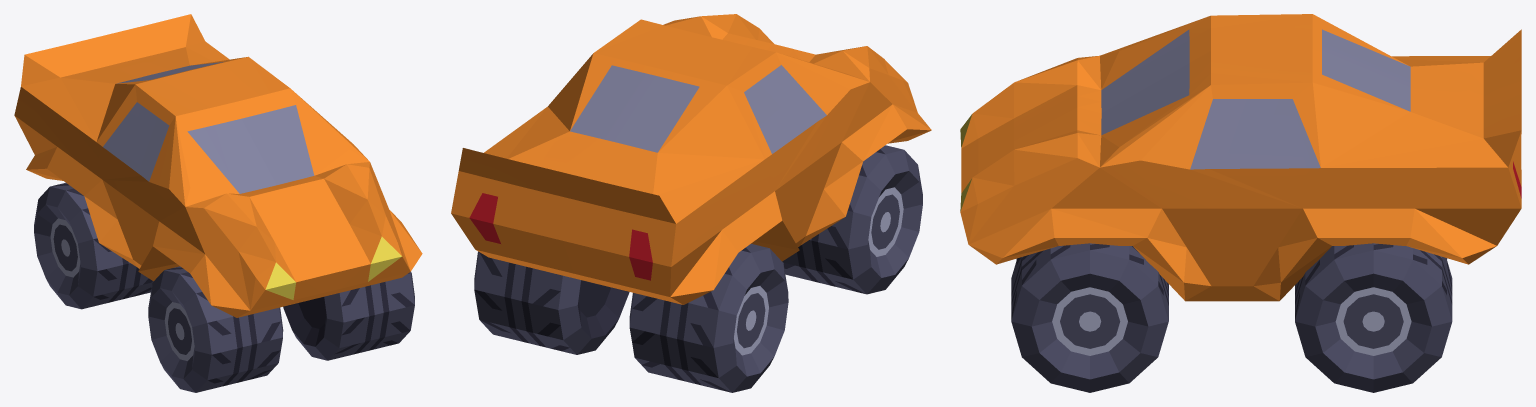
The model's file is Car_Orange.fbx.
3 views of the same model, side by side, from view 1: azimuth 30°, elevation 25°; view 2: azimuth 150°, elevation 25°; view 3: azimuth 270°, elevation 25° (orthographic). The views are drawn at different scales.
Visible parts, largest first — view 1: Car_Orange; view 2: Car_Orange; view 3: Car_Orange.
Part boxes in pixels (x1,y1,x2,y2): Car_Orange: [14, 14, 422, 392]; Car_Orange: [451, 14, 931, 392]; Car_Orange: [960, 14, 1521, 392].
Bounding box in the file's own units: 108 × 107 × 193.
